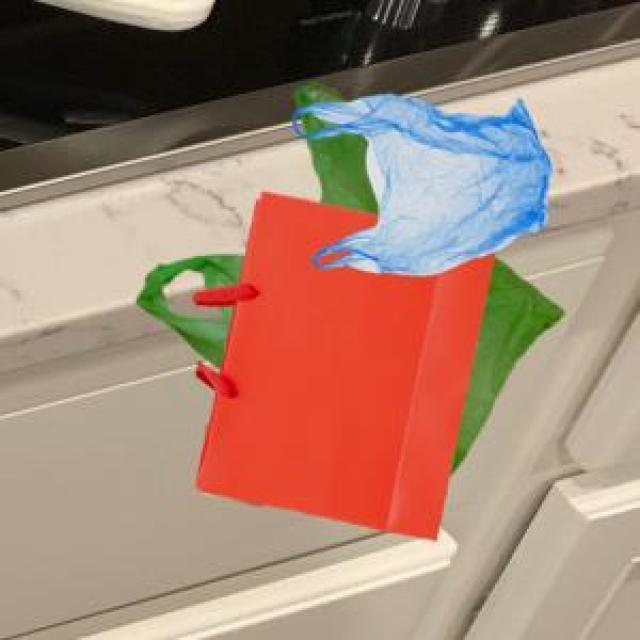paper: (190, 188, 491, 536)
